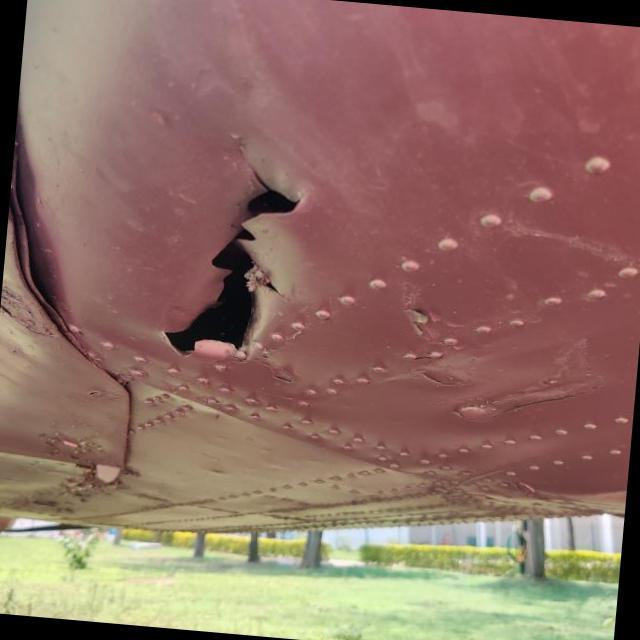Rupture: (150, 120, 323, 380)
